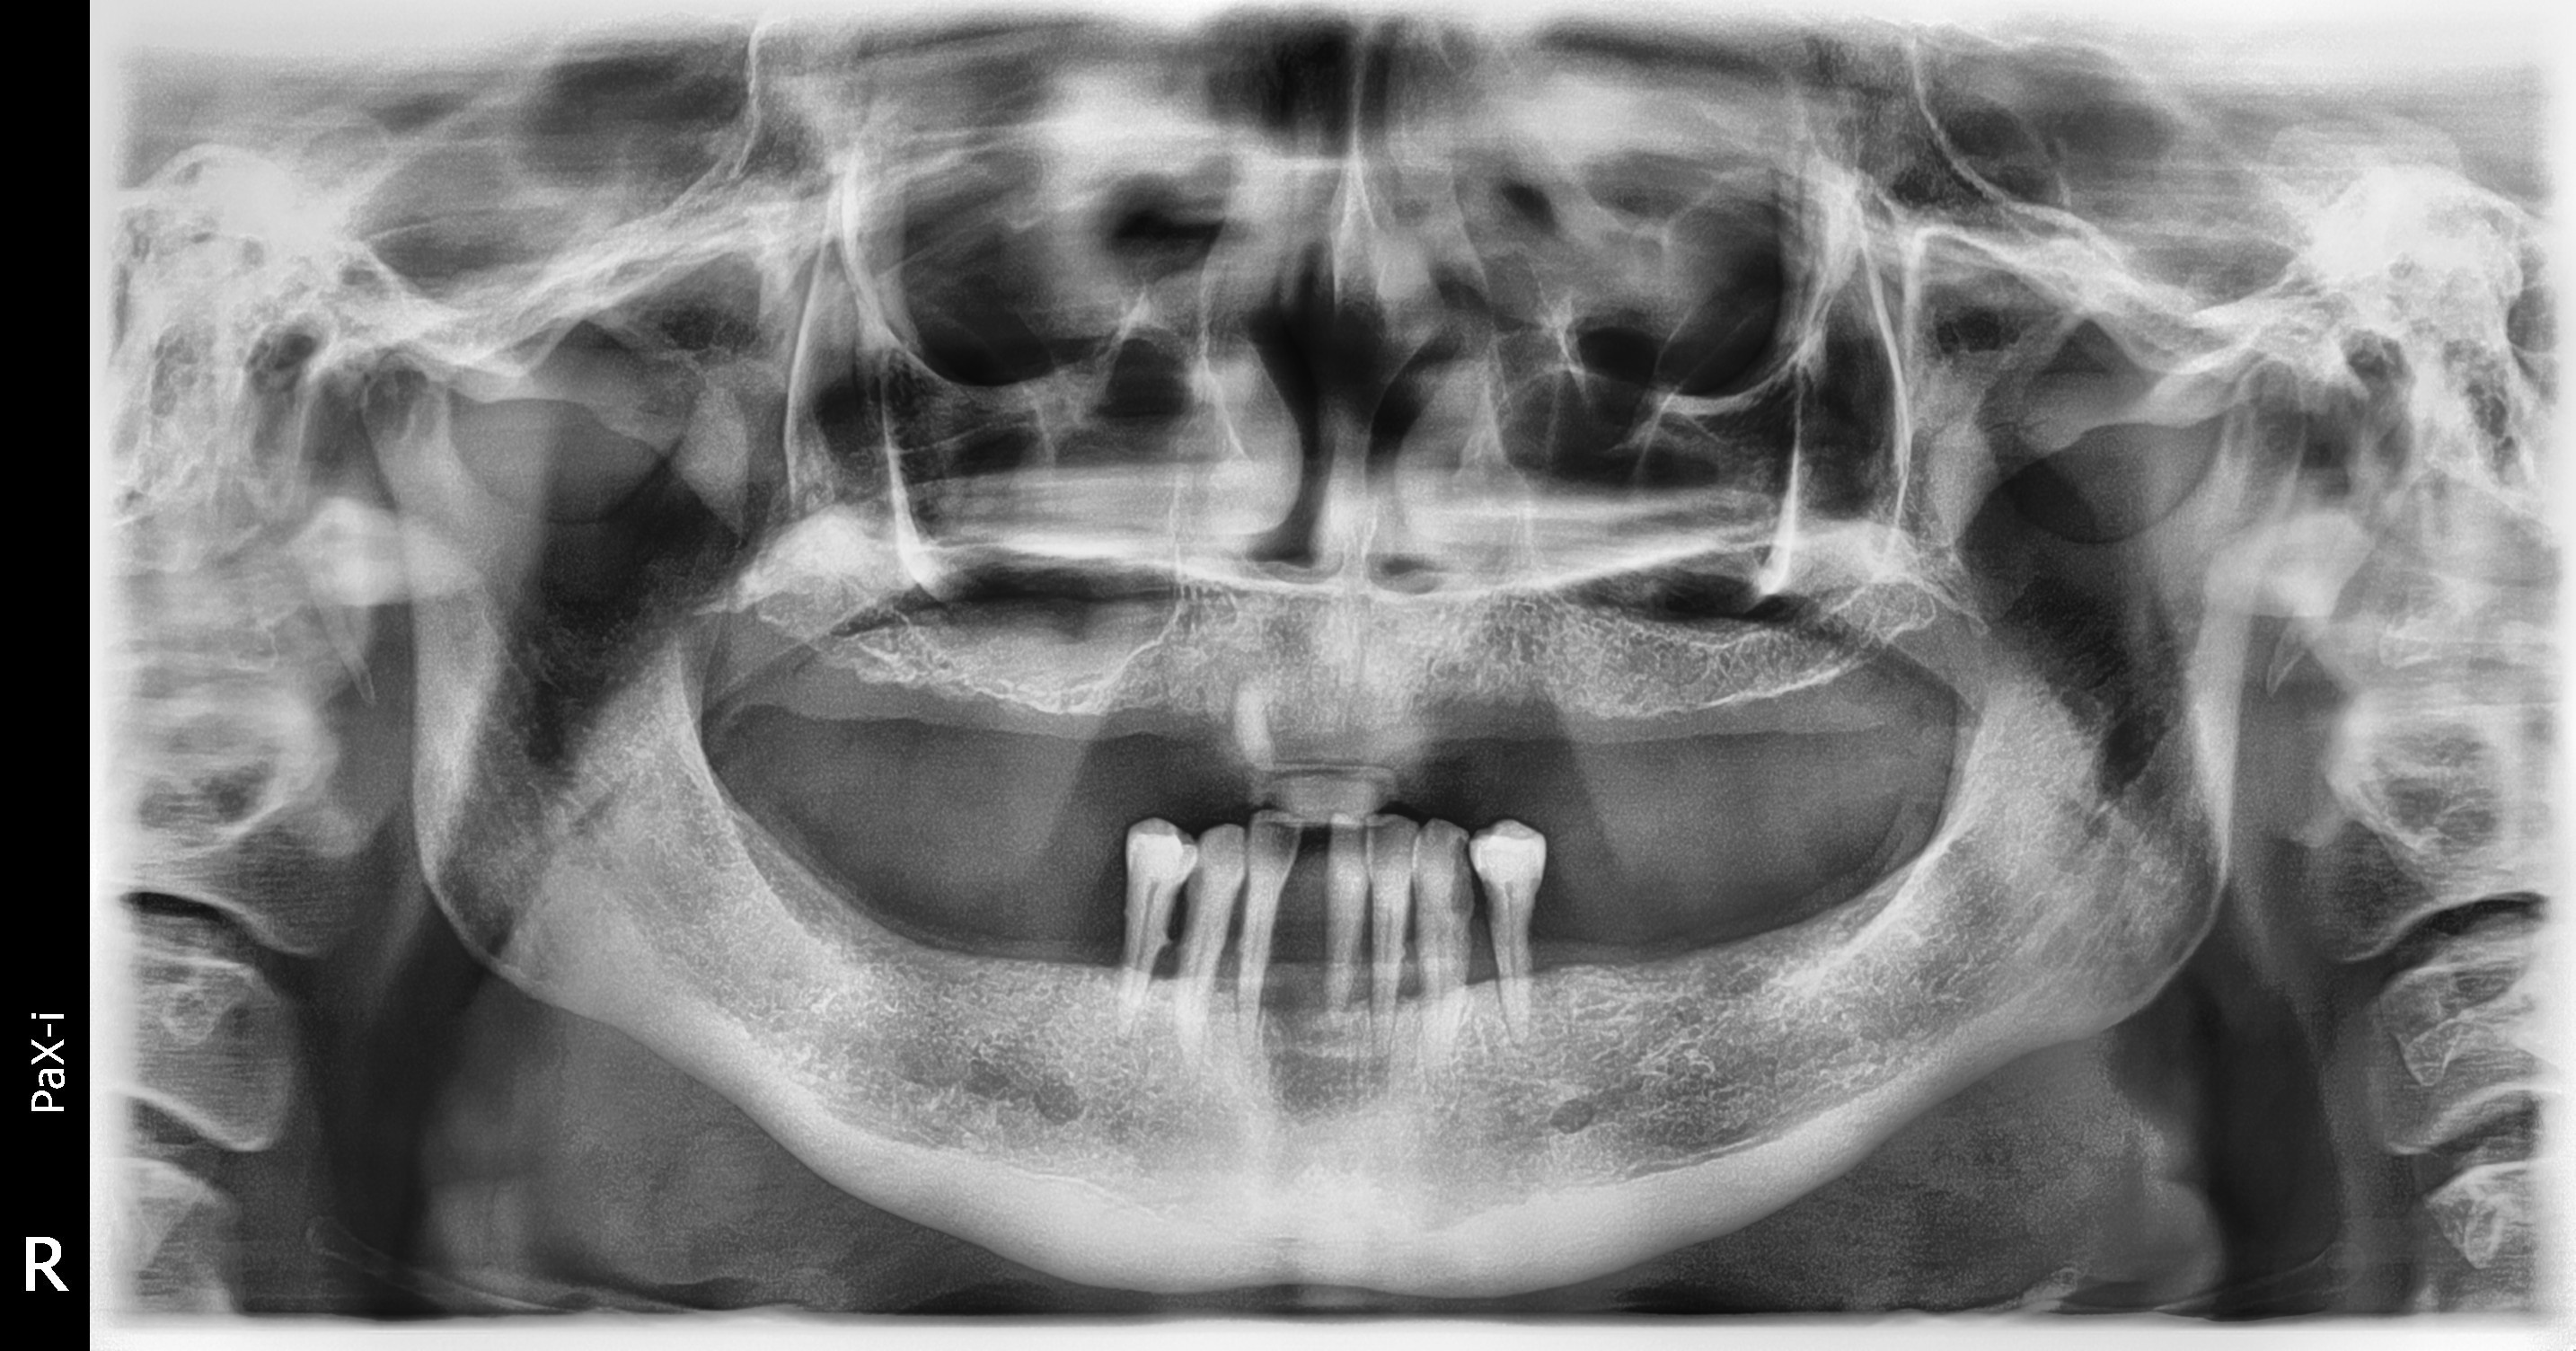CAR: (727, 417, 2230, 1339)
ROT: (593, 290, 1869, 1061)
